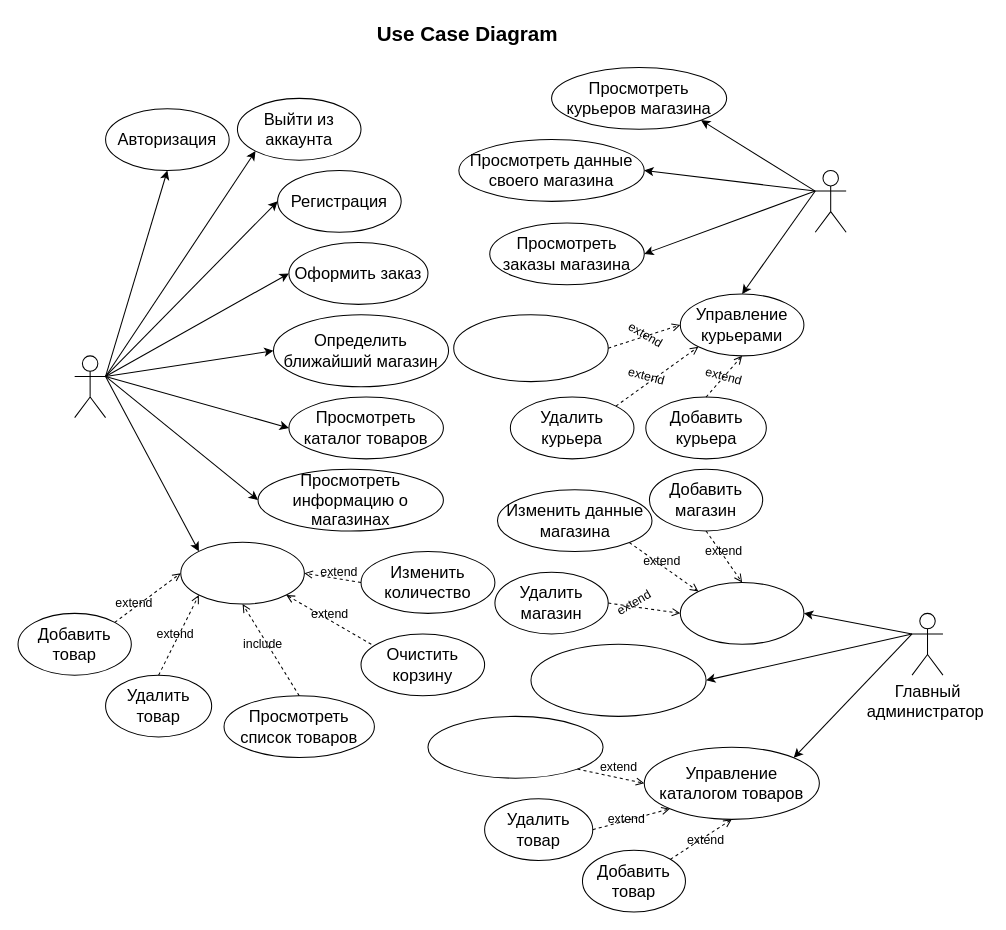
The diagram is 1006 pixels wide and 930 high, and some of its shapes have lost their labels. The centre of each missing label's shape, as x and y in pixels:
"Администратор магазина" goes at (x=830, y=200).
"Изменить данные курьера" goes at (x=530, y=348).
"Изменить данные товара" goes at (x=515, y=746).
"Покупатель" goes at (x=90, y=386).
"Регистрация администраторов магазинов" goes at (x=618, y=679).
"Управление корзиной" goes at (x=242, y=572).
"Управление магазинами" goes at (x=741, y=612).
